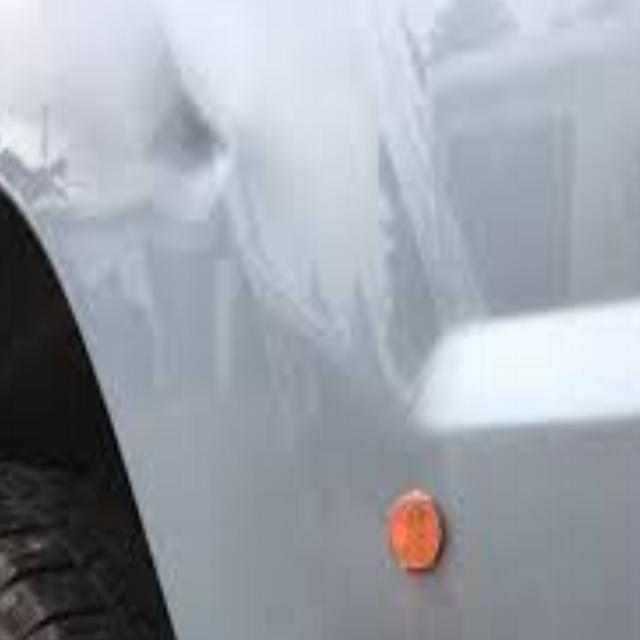dents: (131, 83, 263, 253)
